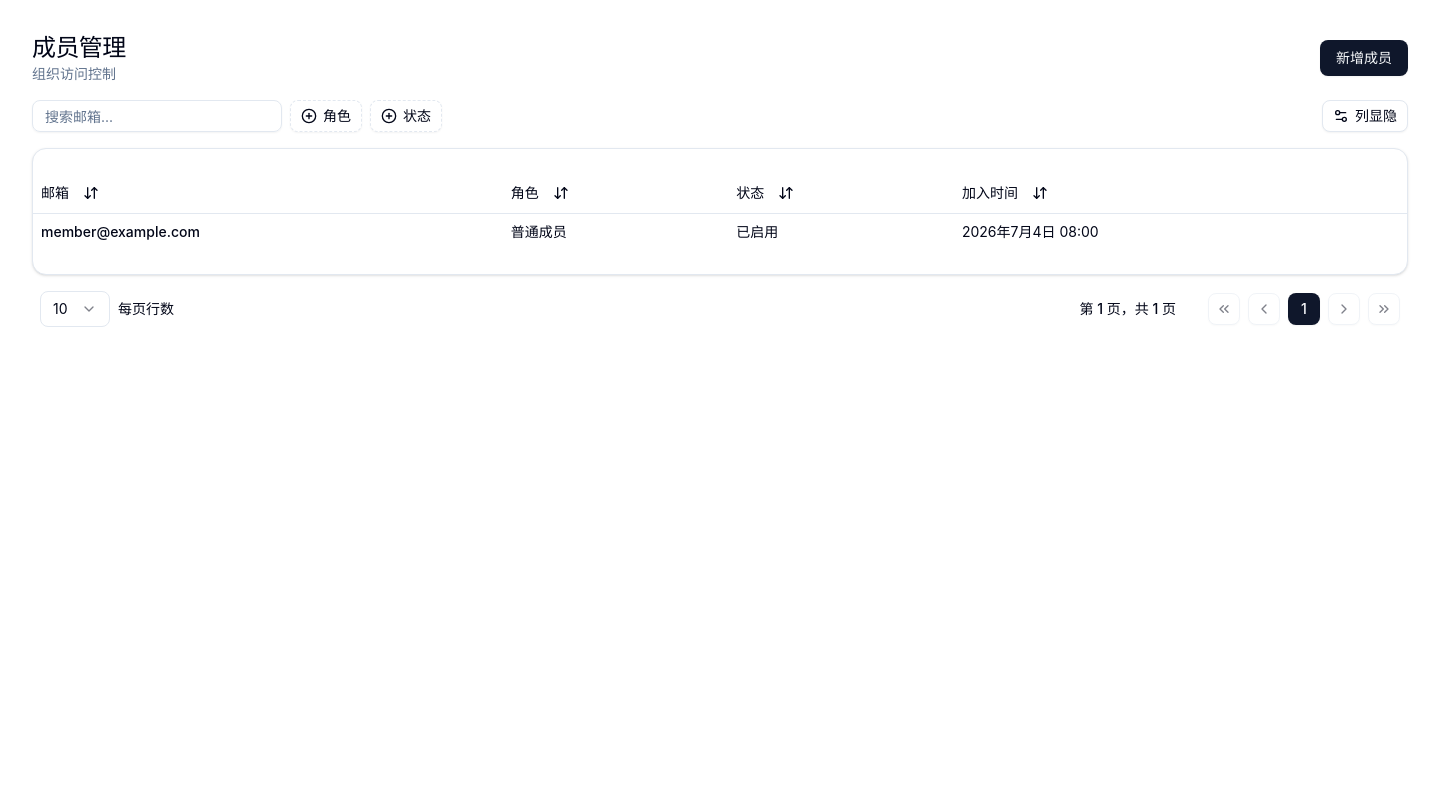
Test: MembersPage › keeps the dialog open with a safe error when member creation fails
The image size is (1440, 810).
Click the button "新增成员".
click(1364, 58)  # box [1320,40,1408,76]
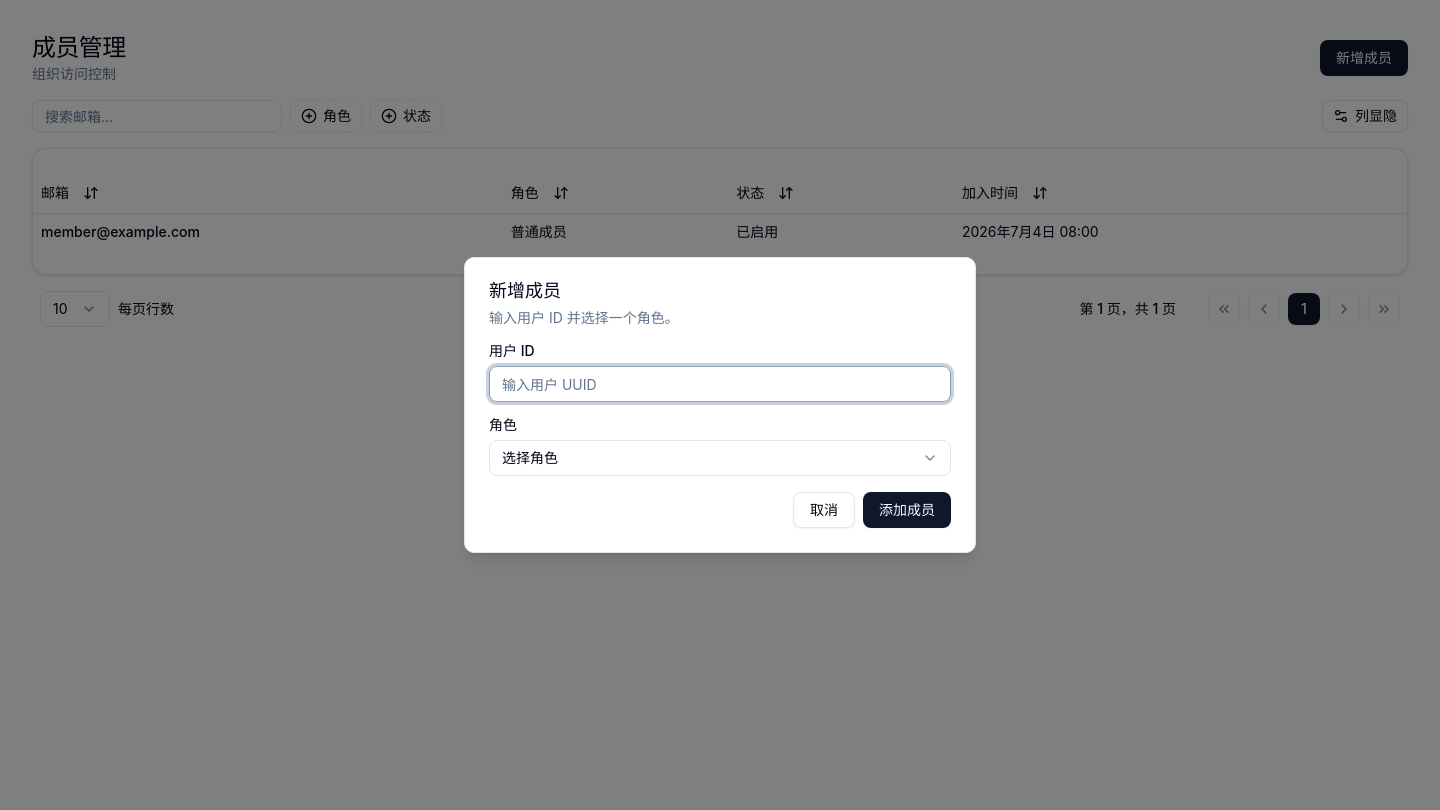
Type "b7d2b905-075d-4a18-9340-2f0e0d1dc4f1" into the field labelled "用户 ID".
click(720, 384); type("b7d2b905-075d-4a18-9340-2f0e0d1dc4f1")  # box [489,366,951,402]
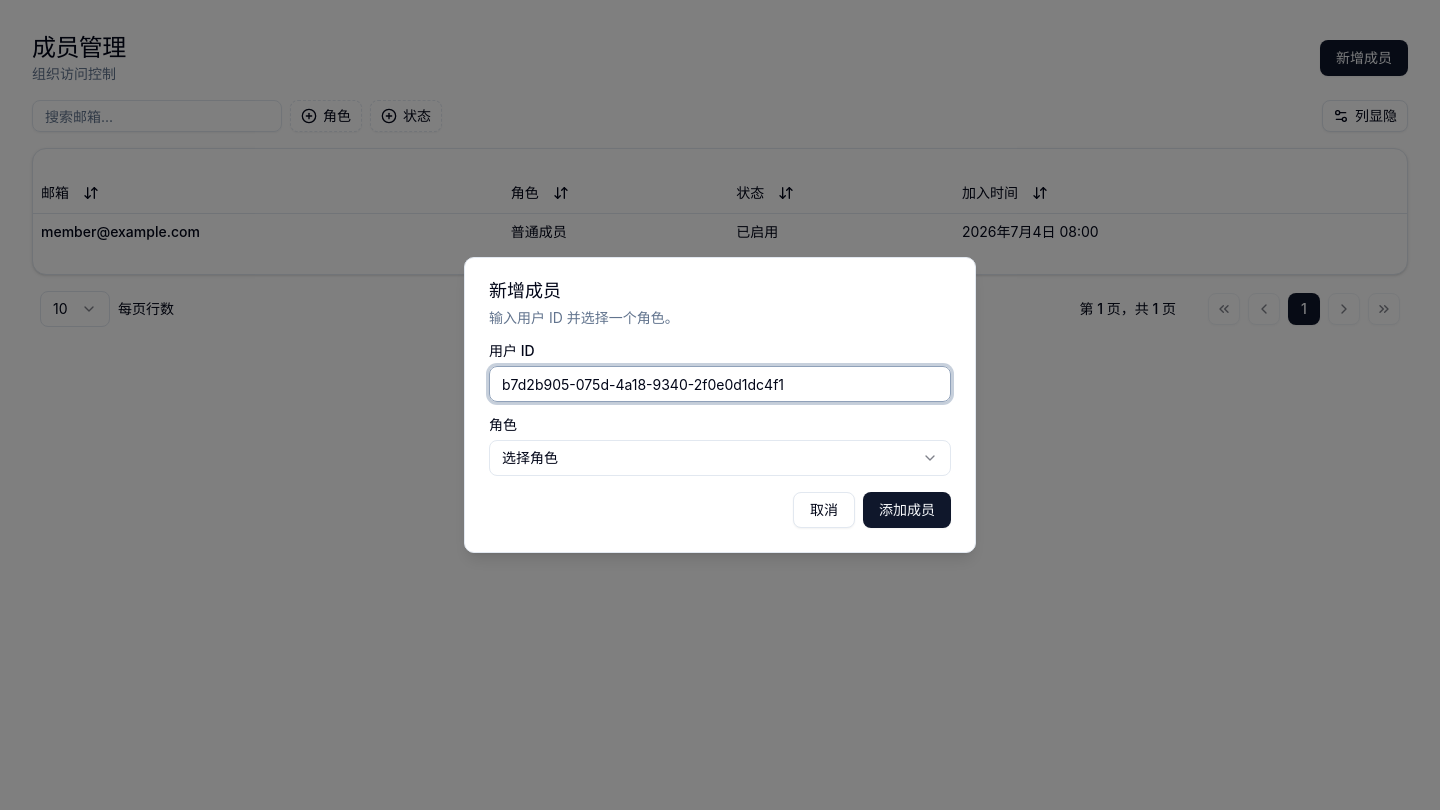
Click the dropdown labelled "角色".
click(530, 458)  # box [489,440,951,476]
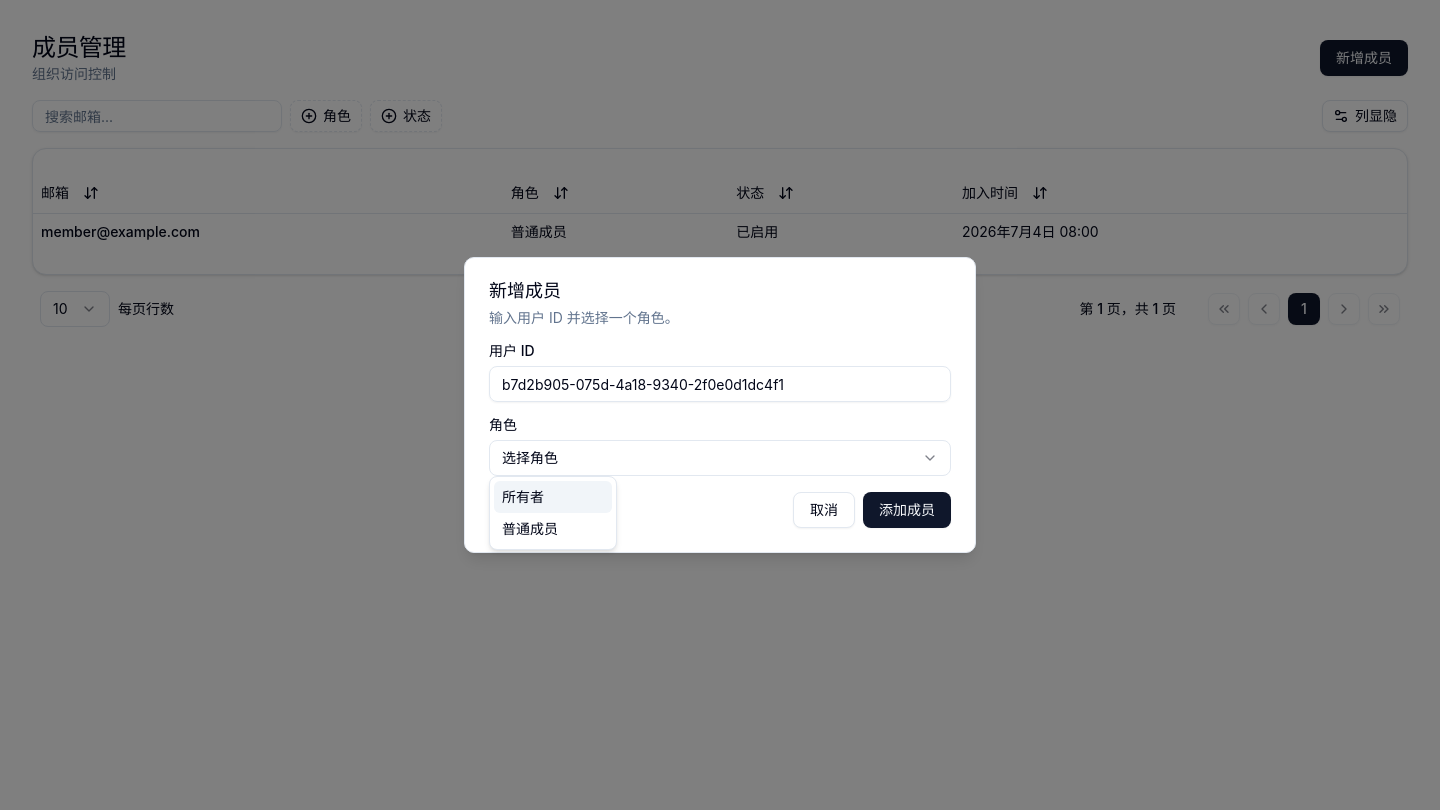
Click the option "普通成员".
click(530, 528)  # box [502,520,558,537]
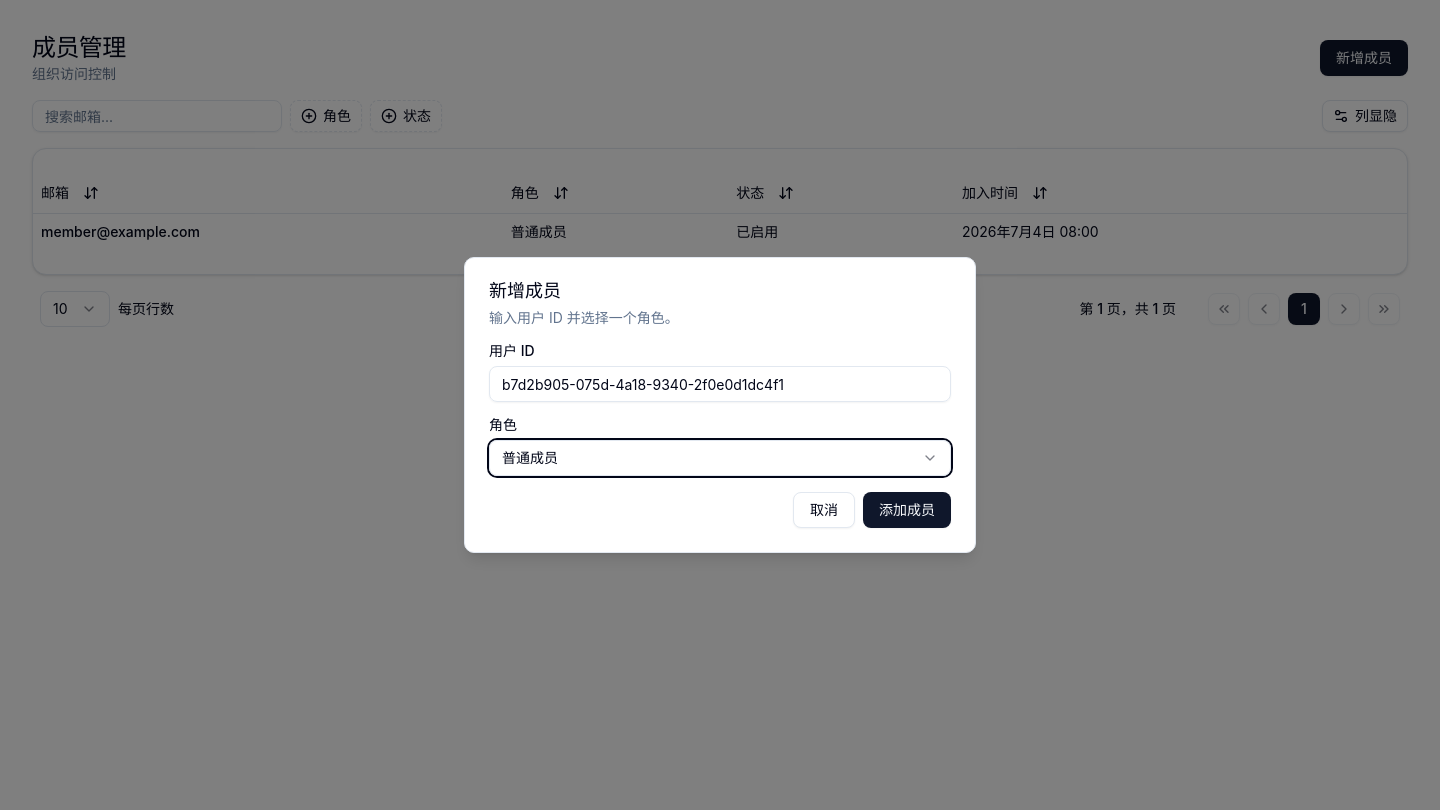
Click the button "添加成员".
click(907, 510)  # box [863,492,951,528]
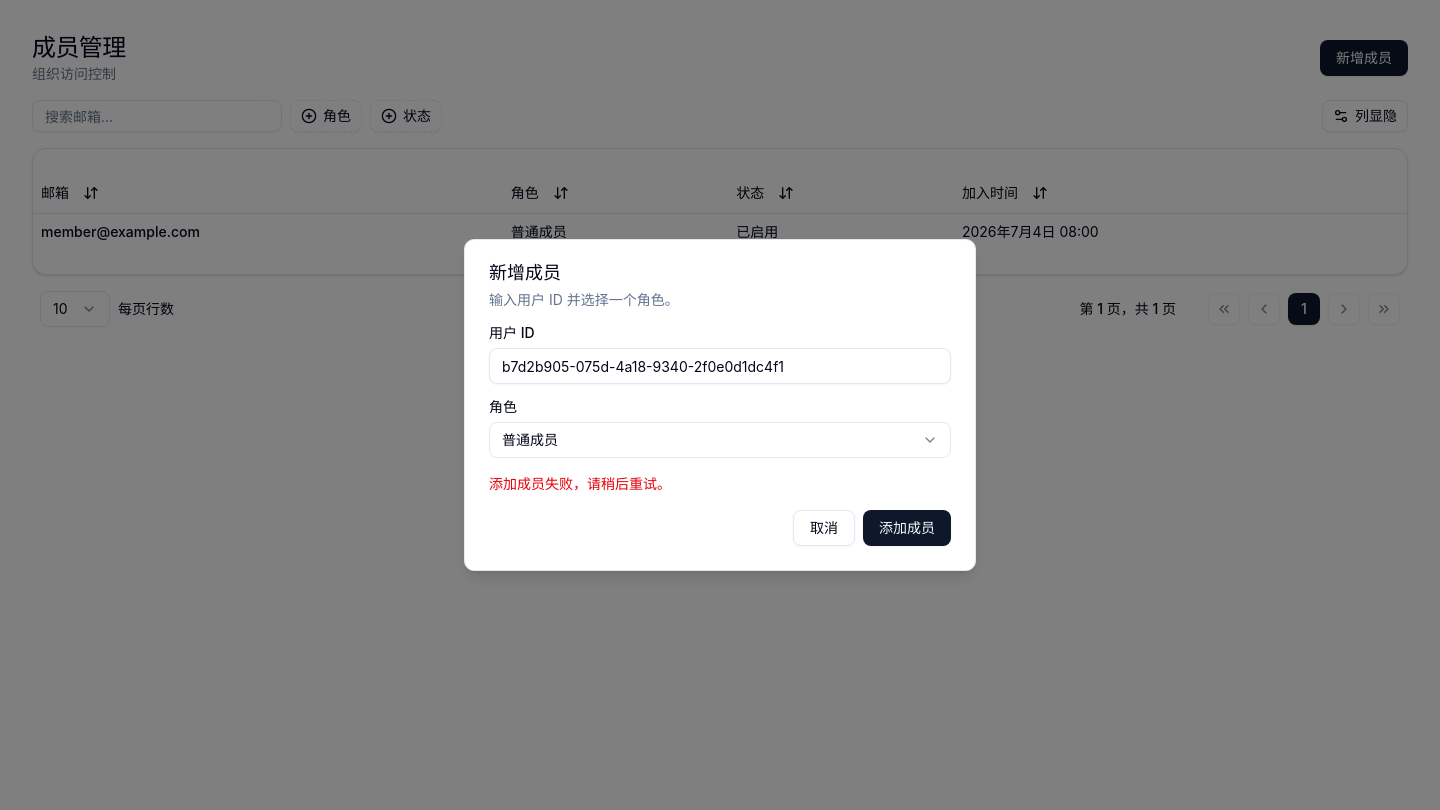
Check: the dialog is shown, box [464,239,976,571]
Check: the message reads "添加成员失败，请稍后重试。", box [489,475,671,492]
